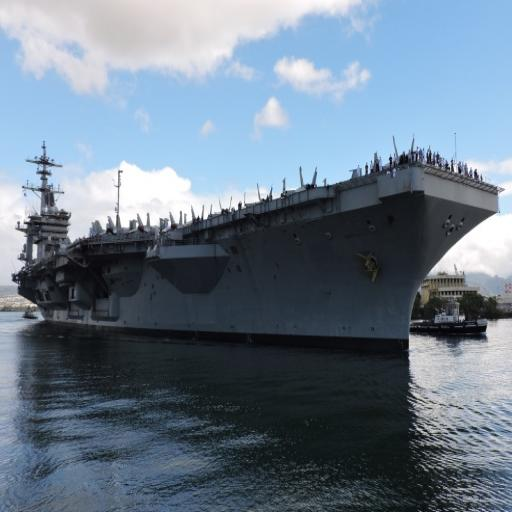Portanaves: (10, 131, 506, 376)
